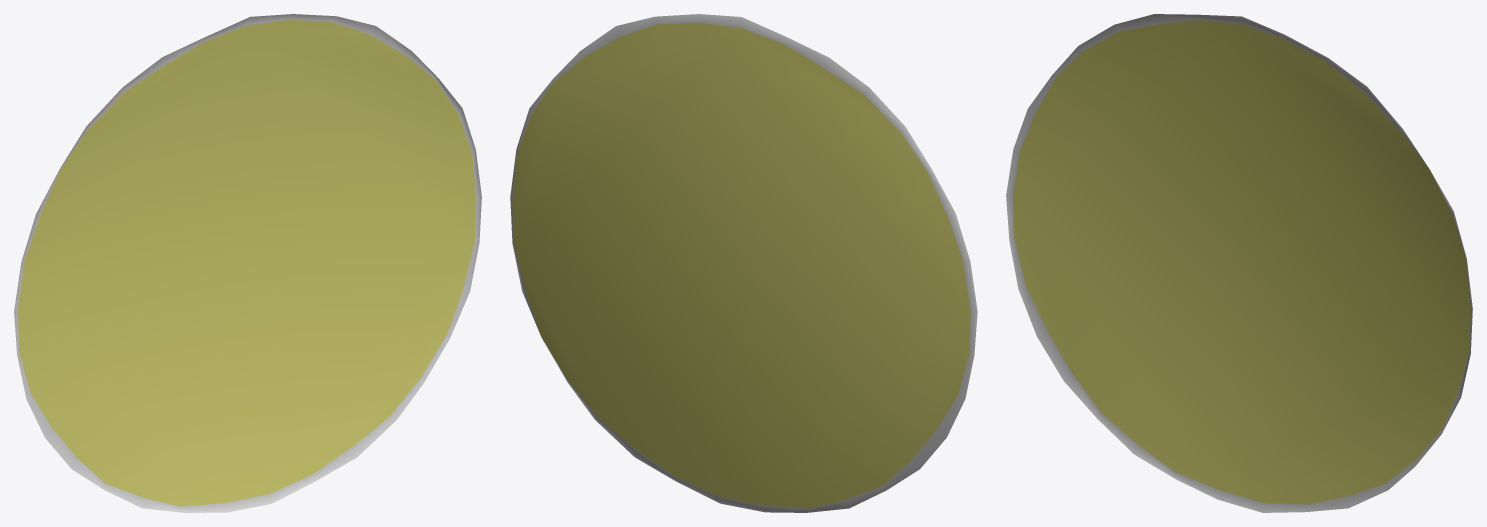
The model's file is ui_radarBackground_inset.glb.
3 renders of one model, left to right at view 1: azimuth 30°, elevation 25°; view 2: azimuth 150°, elevation 25°; view 3: azimuth 330°, elevation 25°, orthographic.
Visible parts, largest first — view 1: Cylinder.001; view 2: Cylinder.001; view 3: Cylinder.001.
Part boxes in pixels (left/top/right/bottom): Cylinder.001: left=14, top=14, right=481, bottom=512; Cylinder.001: left=510, top=14, right=977, bottom=512; Cylinder.001: left=1006, top=14, right=1472, bottom=512.
Bounding box in the file's own units: 2.05 × 2.06 × 0.0147.
